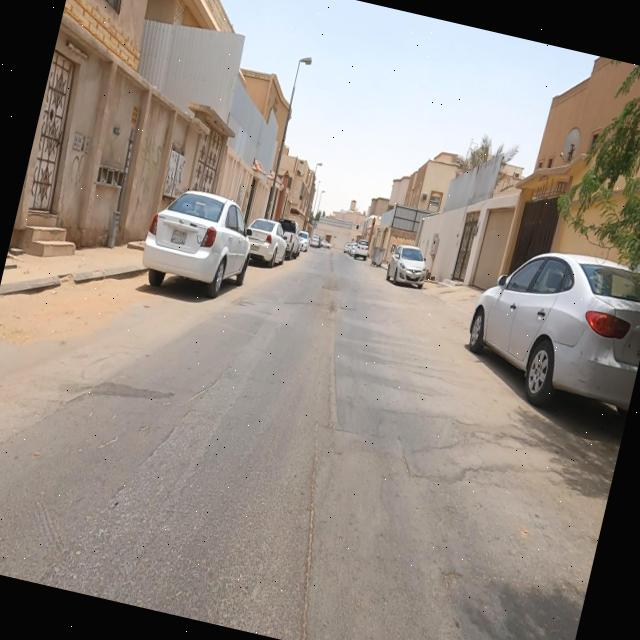Graffiti: (141, 137, 167, 166), (68, 155, 90, 188)
